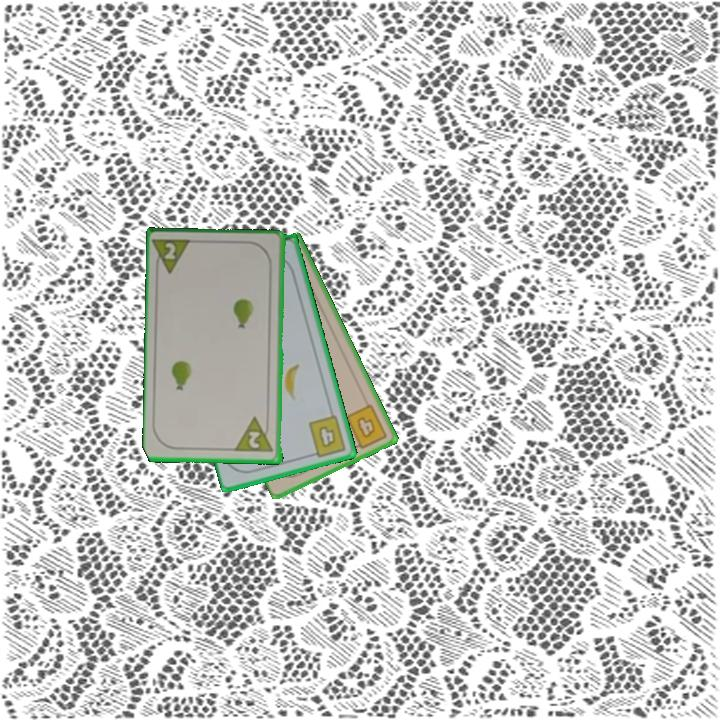2p: (151, 236, 196, 278), (233, 414, 276, 455)
4b: (343, 401, 390, 453), (305, 412, 349, 460)
